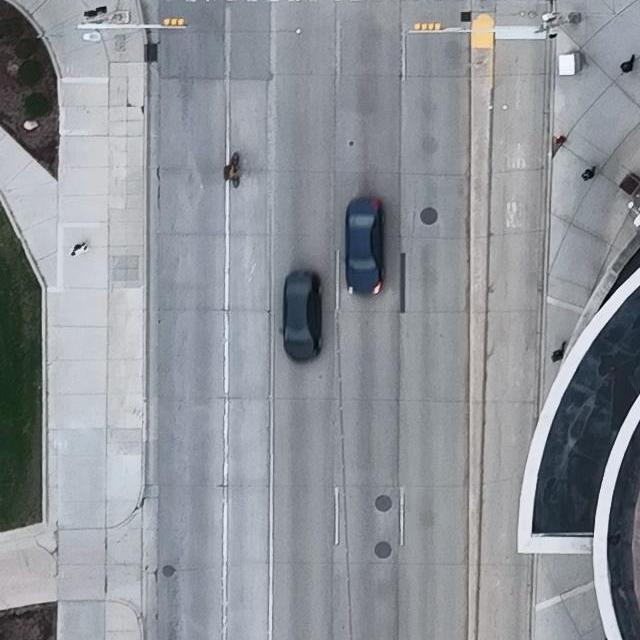car: (343, 196, 387, 295), (279, 272, 324, 364)
